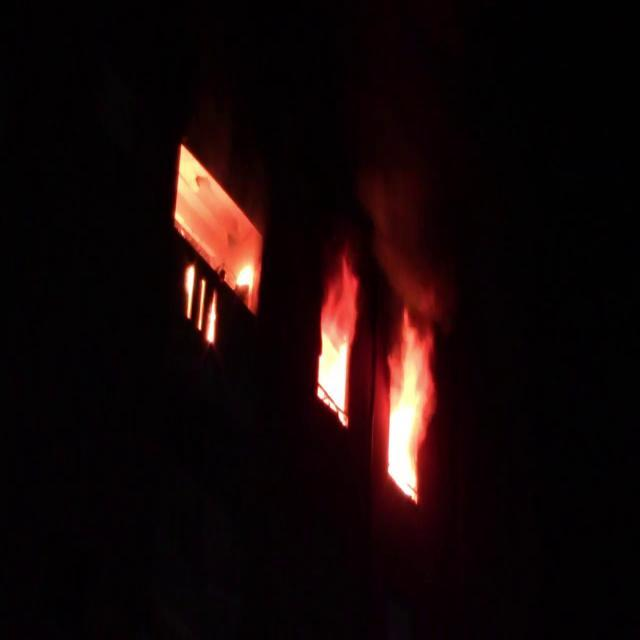Fire: (162, 139, 266, 348), (383, 302, 433, 502), (314, 283, 352, 424)
